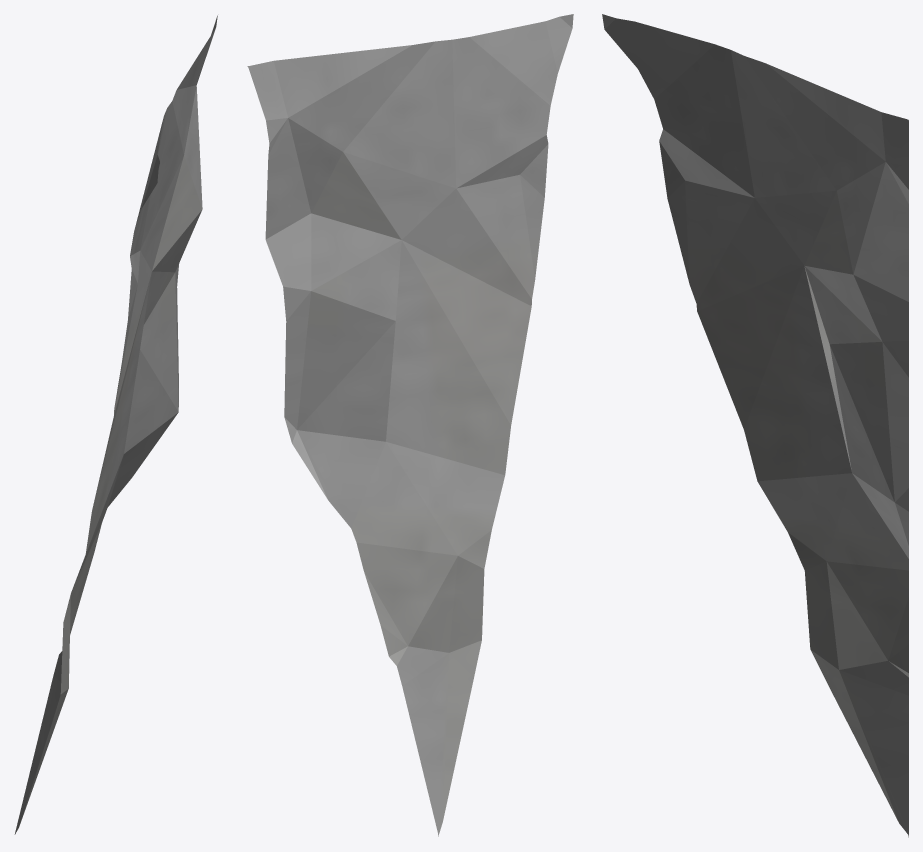
3 renders of one model, left to right at view 1: azimuth 30°, elevation 25°; view 2: azimuth 150°, elevation 25°; view 3: azimuth 270°, elevation 25°, orthographic. The views are drawn at different scales.
Bounding box in the file's own units: 0.0643 × 0.2331 × 0.0787.
1 material, 1 textured.
